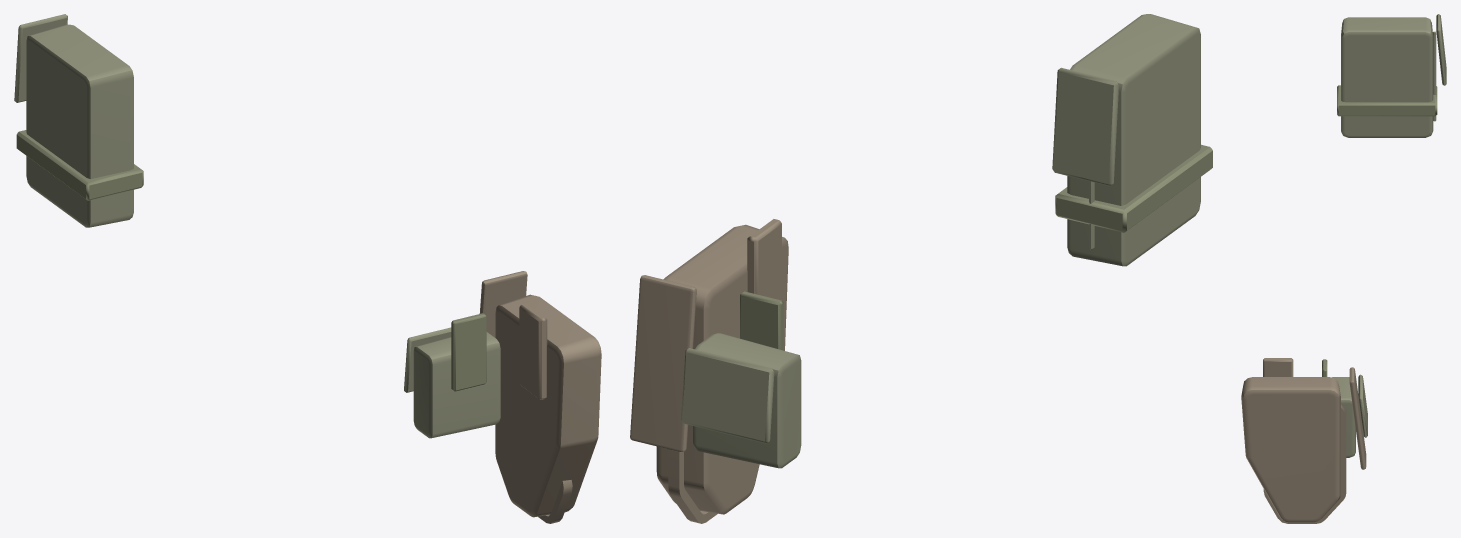
Rendered from rig_open.glb.
3 renders of one model, left to right at view 1: azimuth 30°, elevation 25°; view 2: azimuth 150°, elevation 25°; view 3: azimuth 270°, elevation 25°, orthographic. The views are drawn at different scales.
Parts seen in each view (by area): view 1: holster, pouch, pocket, holster_flap_open, pouch_flap_open, pocket_flap_open; view 2: pouch, holster, holster_flap_open, pocket, pocket_flap_open, pouch_flap_open; view 3: holster, pouch, pocket, holster_flap_open, pouch_flap_open, pocket_flap_open.
Boxes of the visible parts, box(x1,y1,x2,y2) form: holster: box(495, 294, 601, 523); pouch: box(16, 24, 143, 227); pocket: box(413, 313, 500, 438); holster_flap_open: box(479, 271, 527, 337); pouch_flap_open: box(14, 14, 67, 102); pocket_flap_open: box(404, 327, 451, 392); pouch: box(1055, 14, 1212, 266); holster: box(656, 219, 788, 523); holster_flap_open: box(630, 275, 696, 452); pocket: box(693, 291, 801, 468); pocket_flap_open: box(681, 348, 774, 443); pouch_flap_open: box(1052, 67, 1118, 185); holster: box(1241, 358, 1346, 523); pouch: box(1337, 17, 1437, 137); pocket: box(1322, 359, 1355, 457); holster_flap_open: box(1349, 367, 1366, 469); pouch_flap_open: box(1436, 14, 1446, 85); pocket_flap_open: box(1358, 374, 1367, 437).
Bounding box in the file's own units: 0.406 × 0.4484 × 0.2292.
